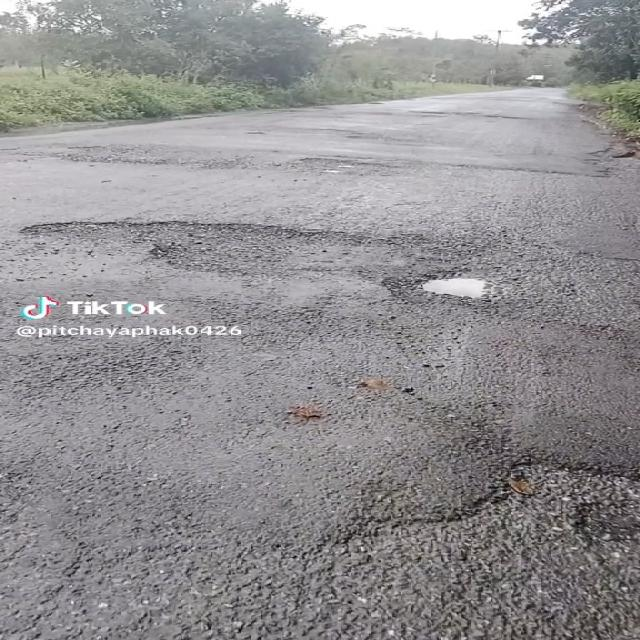Poth-hole: (393, 247, 518, 343)
